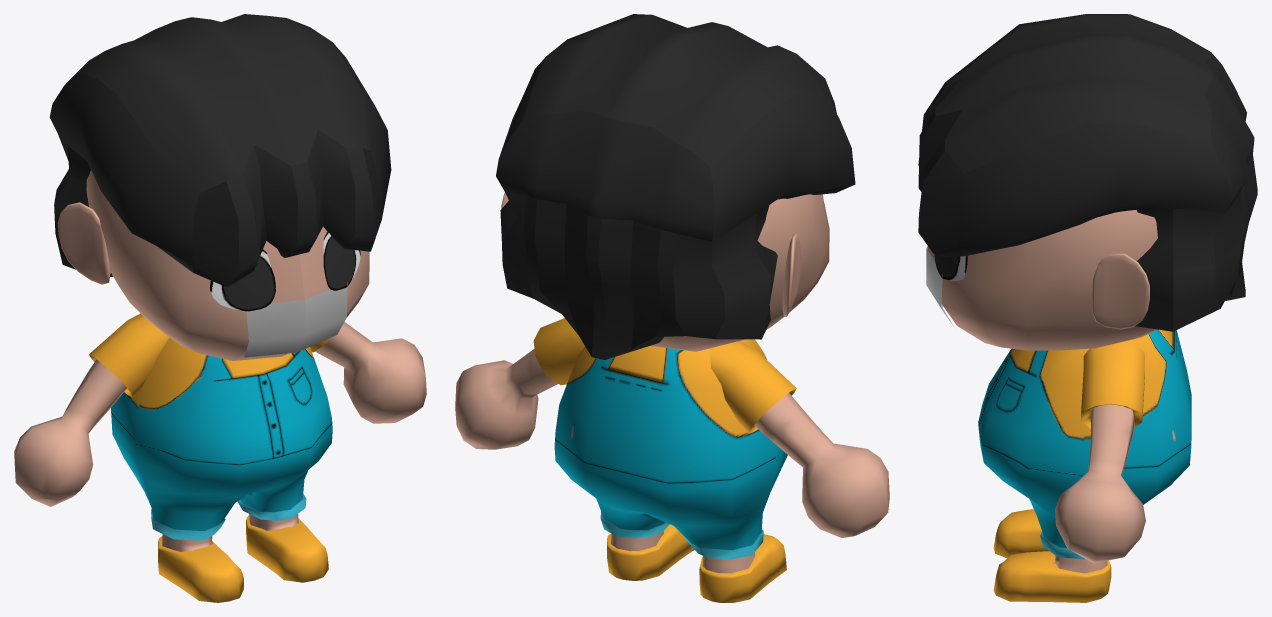
File: BoyKid.fbx
The picture shows the model from 3 angles, left to right: view 1: azimuth 30°, elevation 25°; view 2: azimuth 150°, elevation 25°; view 3: azimuth 270°, elevation 25°; orthographic projection. The views are drawn at different scales.
Visible parts, largest first — view 1: Hair_v2_10, polySurface4, shirt_n_pants5, mouth, pCube48, pCube47, eyes, pCylinder14; view 2: Hair_v2_10, shirt_n_pants5, polySurface4, pCylinder14, pCube48, pCube47, pCylinder15; view 3: Hair_v2_10, polySurface4, shirt_n_pants5, pCube47, pCylinder15, pCube48, eyes, mouth.
Boxes of the visible parts, box(x1,y1,x2,y2) form: Hair_v2_10: box(49, 14, 391, 286); polySurface4: box(14, 170, 426, 551); shirt_n_pants5: box(111, 337, 332, 540); mouth: box(244, 281, 347, 357); pCube48: box(158, 536, 243, 602); pCube47: box(246, 515, 328, 582); eyes: box(210, 231, 360, 311); pCylinder14: box(89, 313, 169, 397); Hair_v2_10: box(496, 14, 855, 359); shirt_n_pants5: box(554, 339, 787, 559); polySurface4: box(455, 193, 889, 573); pCylinder14: box(709, 341, 796, 433); pCube48: box(699, 534, 786, 602); pCube47: box(606, 524, 694, 580); pCylinder15: box(533, 318, 584, 385); Hair_v2_10: box(918, 14, 1257, 331); polySurface4: box(927, 210, 1175, 573); shirt_n_pants5: box(978, 329, 1191, 559); pCube47: box(993, 551, 1111, 602); pCylinder15: box(1081, 340, 1144, 428); pCube48: box(993, 509, 1049, 558); eyes: box(934, 254, 967, 280); mouth: box(926, 246, 954, 327).
Size of the model in its own units: 5.07 by 6.17 by 3.57.
